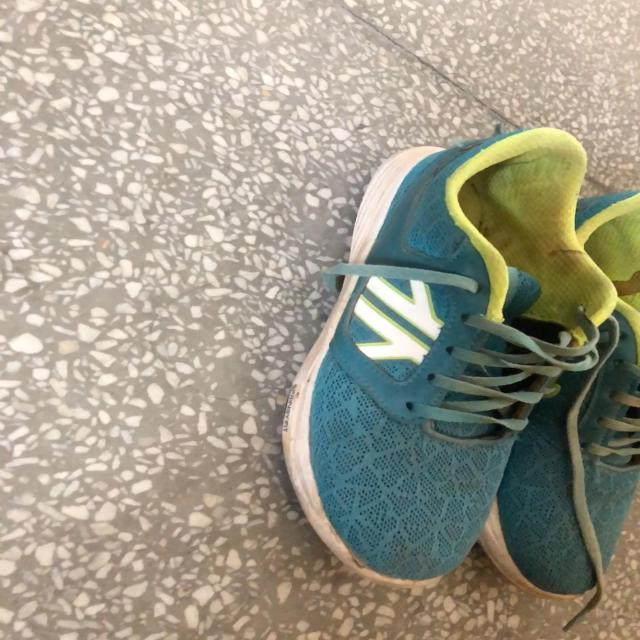shoe: (283, 128, 640, 604)
